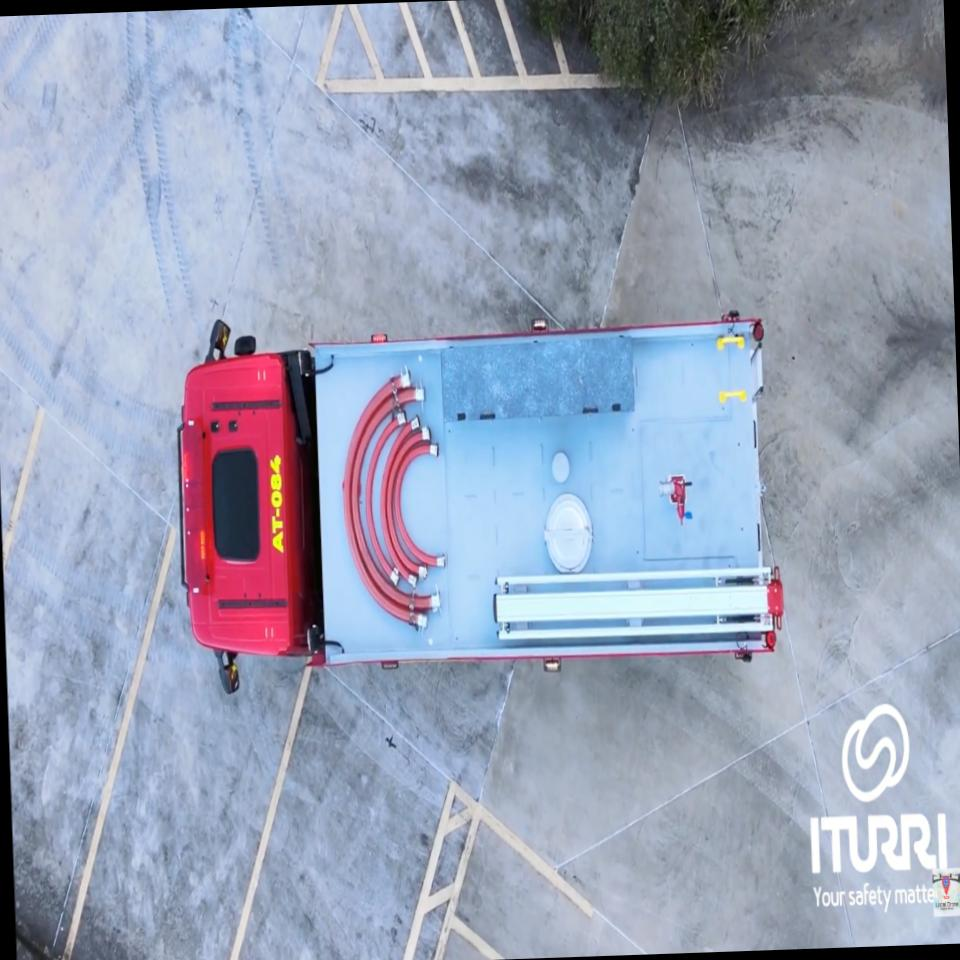viatura: (168, 297, 792, 701)
